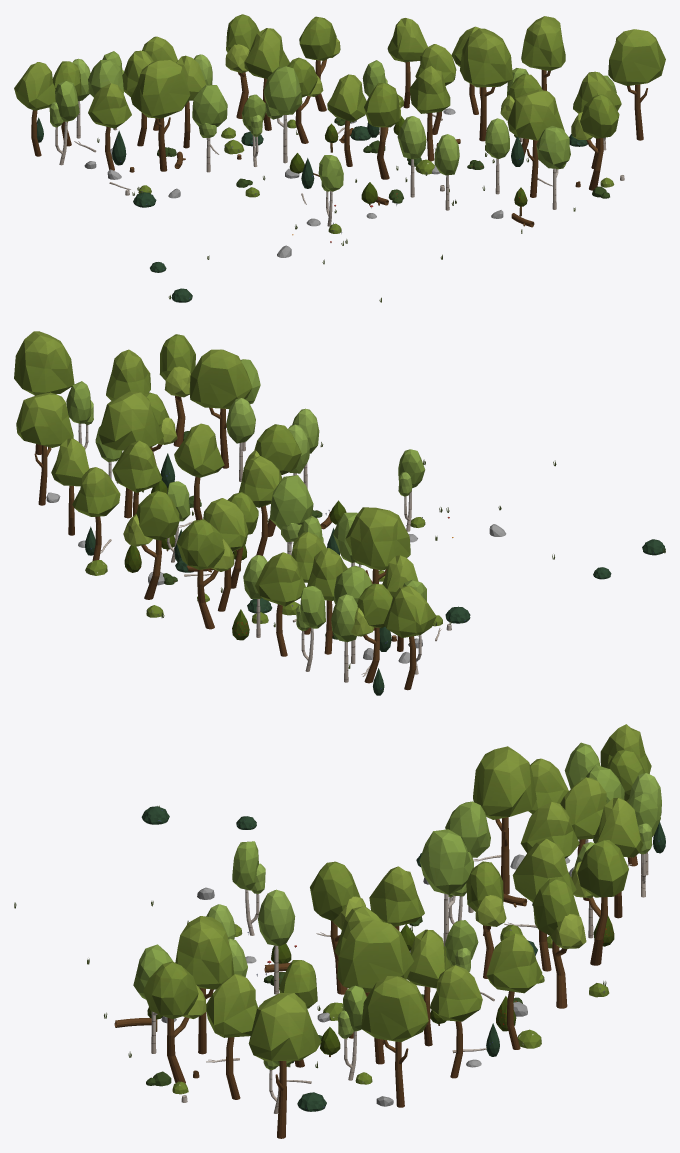
Rendered from Foliage3.gltf.
The picture shows the model from 3 angles, top to bottom: view 1: azimuth 30°, elevation 25°; view 2: azimuth 150°, elevation 25°; view 3: azimuth 270°, elevation 25°; orthographic projection. The views are drawn at different scales.
Visible parts, largest first — view 1: Beechtree3 - copy.026, Beechtree3 - copy.028, Beechtree3 - copy.013, Beechtree3 - copy.003, Beechtree3 - copy.025, Beechtree2 - copy.015, BirchTree3 - copy.011, Beechtree1 - copy.034, Beechtree1 - copy.004, Beechtree2 - copy.039, Beechtree2 - copy.027, Beechtree1 - copy.032 (+24 smaller); view 2: Beechtree3 - copy.003, Beechtree3 - copy.026, Beechtree3 - copy.028, Beechtree3 - copy.013, Beechtree3 - copy.025, Beechtree2 - copy.027, Beechtree2 - copy.038, Beechtree1 - copy.015, Beechtree1 - copy.034, Beechtree2 - copy.015, Beechtree1 - copy.004, BirchTree3 - copy.011 (+24 smaller); view 3: Beechtree3 - copy.028, Beechtree3 - copy.026, Beechtree3 - copy.013, Beechtree3 - copy.025, Beechtree3 - copy.003, Beechtree2 - copy.015, Beechtree2 - copy.038, Beechtree2 - copy.027, Beechtree1 - copy.006, BirchTree3 - copy.011, Beechtree1 - copy.036, Beechtree2 - copy.039 (+23 smaller).
Part boxes in pixels (left/top/right/bottom): Beechtree3 - copy.026: left=131, top=60, right=190, bottom=171; Beechtree3 - copy.028: left=608, top=29, right=665, bottom=140; Beechtree3 - copy.013: left=460, top=28, right=512, bottom=141; Beechtree3 - copy.003: left=507, top=89, right=564, bottom=197; Beechtree3 - copy.025: left=521, top=16, right=565, bottom=90; Beechtree2 - copy.015: left=571, top=94, right=619, bottom=190; BirchTree3 - copy.011: left=263, top=66, right=302, bottom=163; Beechtree1 - copy.034: left=14, top=62, right=55, bottom=156; Beechtree1 - copy.004: left=409, top=66, right=450, bottom=161; Beechtree2 - copy.039: left=364, top=83, right=400, bottom=179; Beechtree2 - copy.027: left=225, top=14, right=259, bottom=118; Beechtree1 - copy.032: left=244, top=28, right=289, bottom=130; Beechtree3 - copy.003: left=189, top=349, right=252, bottom=468; Beechtree3 - copy.026: left=345, top=507, right=410, bottom=630; Beechtree3 - copy.028: left=14, top=331, right=74, bottom=454; Beechtree3 - copy.013: left=98, top=391, right=163, bottom=518; Beechtree3 - copy.025: left=16, top=392, right=73, bottom=505; Beechtree2 - copy.027: left=177, top=519, right=234, bottom=629; Beechtree2 - copy.038: left=123, top=490, right=179, bottom=599; Beechtree1 - copy.015: left=255, top=552, right=305, bottom=656; Beechtree1 - copy.034: left=384, top=585, right=436, bottom=690; Beechtree2 - copy.015: left=159, top=334, right=195, bottom=446; Beechtree1 - copy.004: left=174, top=423, right=224, bottom=520; BirchTree3 - copy.011: left=270, top=475, right=313, bottom=555; Beechtree3 - copy.028: left=248, top=993, right=321, bottom=1138; Beechtree3 - copy.026: left=473, top=746, right=536, bottom=894; Beechtree3 - copy.013: left=337, top=920, right=413, bottom=1064; Beechtree3 - copy.025: left=361, top=976, right=428, bottom=1107; Beechtree3 - copy.003: left=175, top=916, right=234, bottom=1054; Beechtree2 - copy.015: left=143, top=961, right=206, bottom=1083; Beechtree2 - copy.038: left=533, top=878, right=586, bottom=1008; Beechtree2 - copy.027: left=571, top=840, right=628, bottom=965; Beechtree1 - copy.006: left=206, top=974, right=257, bottom=1099; BirchTree3 - copy.011: left=419, top=829, right=470, bottom=946; Beechtree1 - copy.036: left=486, top=933, right=542, bottom=1049; Beechtree2 - copy.039: left=310, top=861, right=365, bottom=994.
Size of the model in its own units: 65.41 by 12.83 by 53.2.
32 materials, 32 textured.
